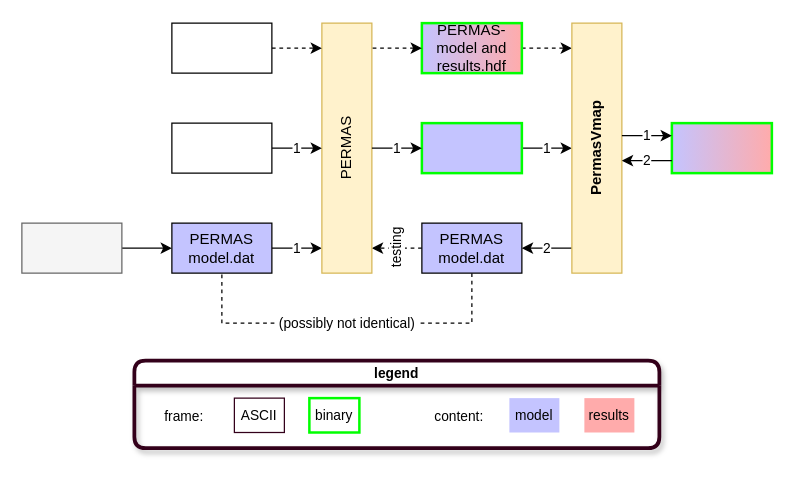
Some shapes in this 795 by 480 pixel diagram are drawn without their labels. The centre of each missing label's shape, as x and y in pixels:
"Dat2Hdf.uci" belongs at pixel 221 147.
"general.uci" belongs at pixel 221 47.
"PERMAS model.hdf" belongs at pixel 471 147.
"pre-processor" belongs at pixel 71 247.
"VMAP.hdf" belongs at pixel 721 147.
